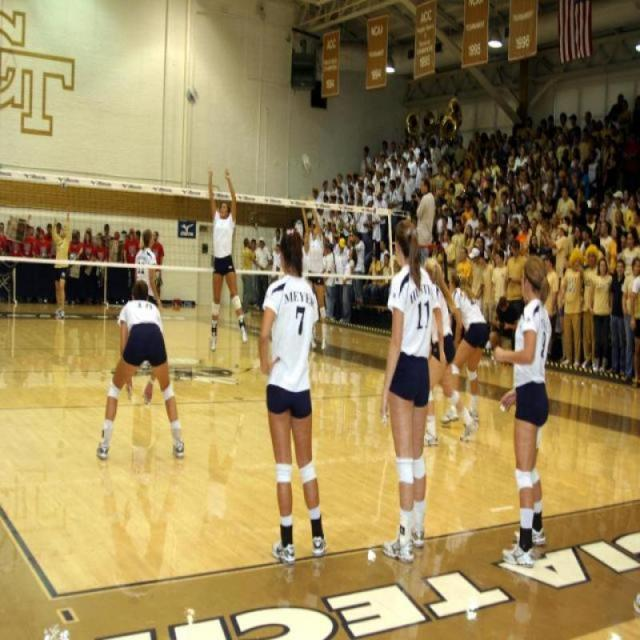volleyball: (184, 82, 198, 106)
